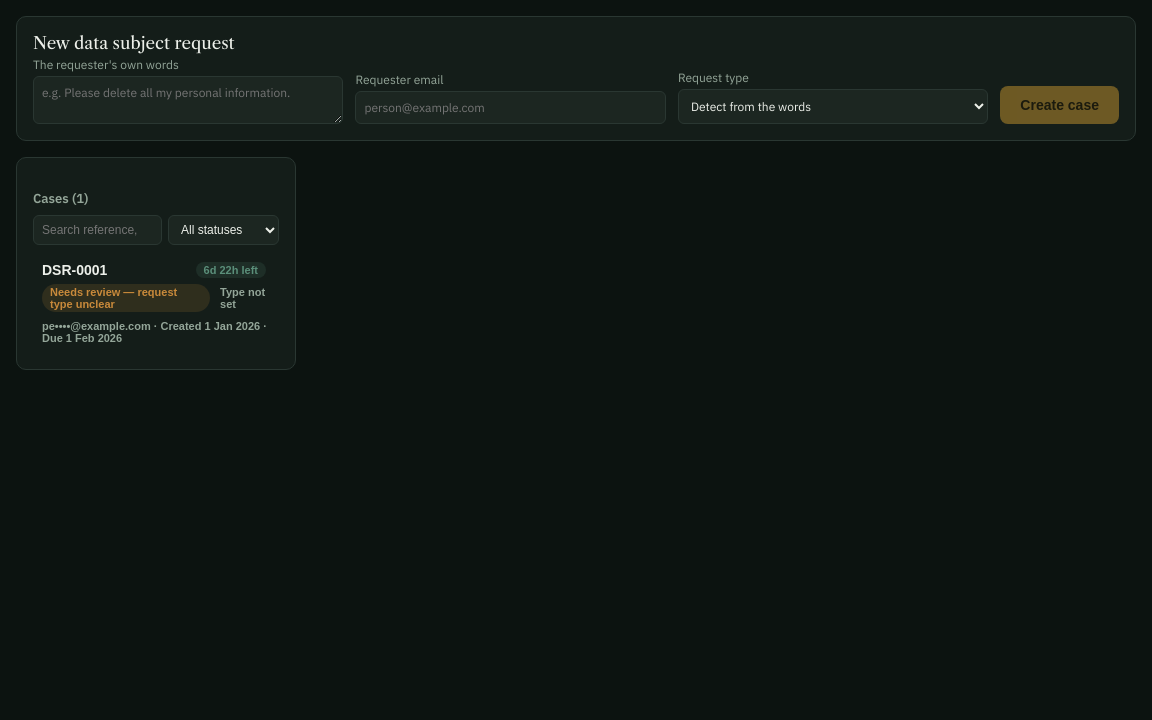
Test case: DsrDashboard: a request whose type is unclear can be set and then continue › shows a request-type selector with only the types the backend implements
Check: the text "DSR-0001" is shown, box left=42, top=262, right=107, bottom=278
What coordinates should you click on to do the following:
click the button "DSR-0001"
I would click on:
 (156, 303)
Its box is left=33, top=253, right=279, bottom=353.
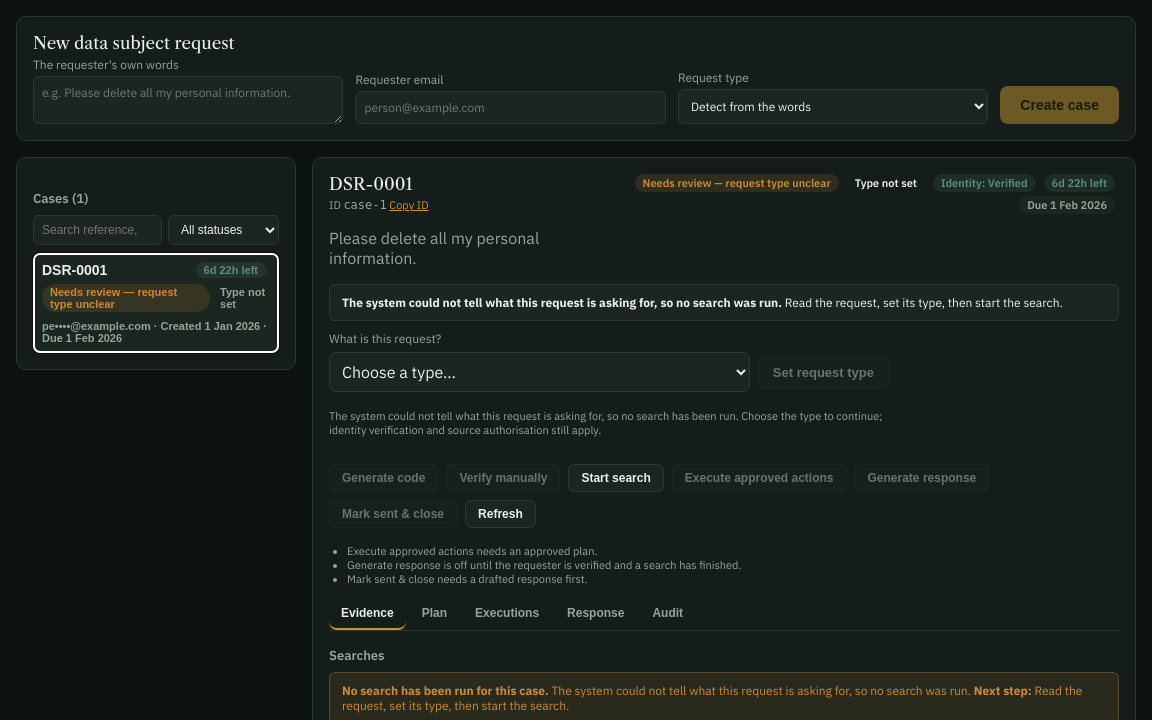
Check: the heading "DSR-0001" is shown, box left=329, top=174, right=413, bottom=194
Check: the text "so no search has been run" is shown, box left=329, top=409, right=883, bottom=437
Check: the button "Set request type" is disabled, box left=758, top=356, right=889, bottom=388
